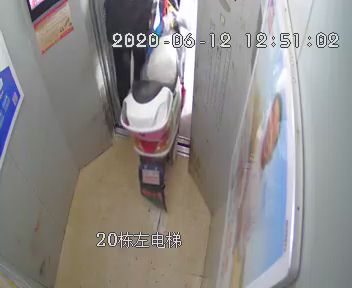Electric-bicycle: (122, 24, 187, 193)
